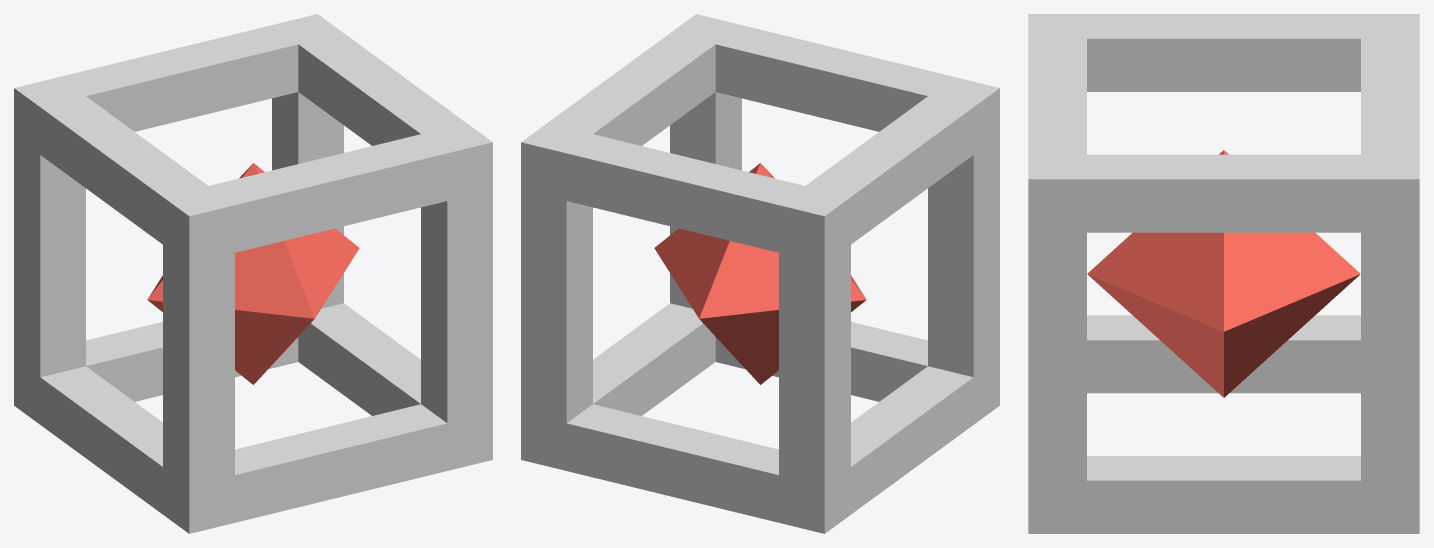
The model's file is hurdle.obj.
The picture shows the model from 3 angles, left to right: view 1: azimuth 30°, elevation 25°; view 2: azimuth 150°, elevation 25°; view 3: azimuth 270°, elevation 25°; orthographic projection. The views are drawn at different scales.
Parts seen in each view (by area): view 1: 円錐.002; view 2: 円錐.002; view 3: 円錐.002.
Part boxes in pixels (box(x1,y1,x2,y2)): 円錐.002: box(14, 14, 492, 533); 円錐.002: box(521, 14, 999, 533); 円錐.002: box(1028, 14, 1419, 533).
Bounding box in the file's own units: 1 × 1 × 1.
1 material, 1 textured.
